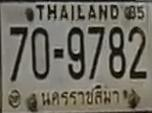0: (30, 26, 50, 78)
2: (128, 26, 147, 79)
7: (87, 26, 107, 80), (10, 26, 28, 81)
8: (108, 26, 125, 78)
9: (67, 27, 84, 79)
NMA: (40, 84, 123, 109)
